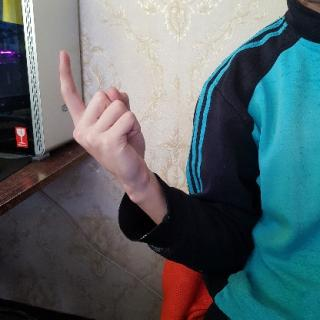RAA: (53, 47, 168, 205)
